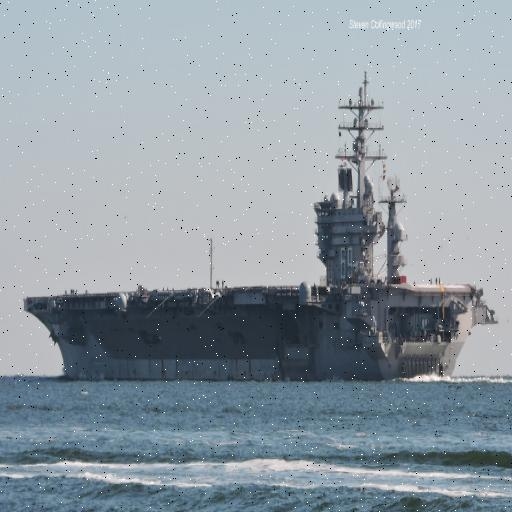Portanaves: (22, 79, 504, 386)
